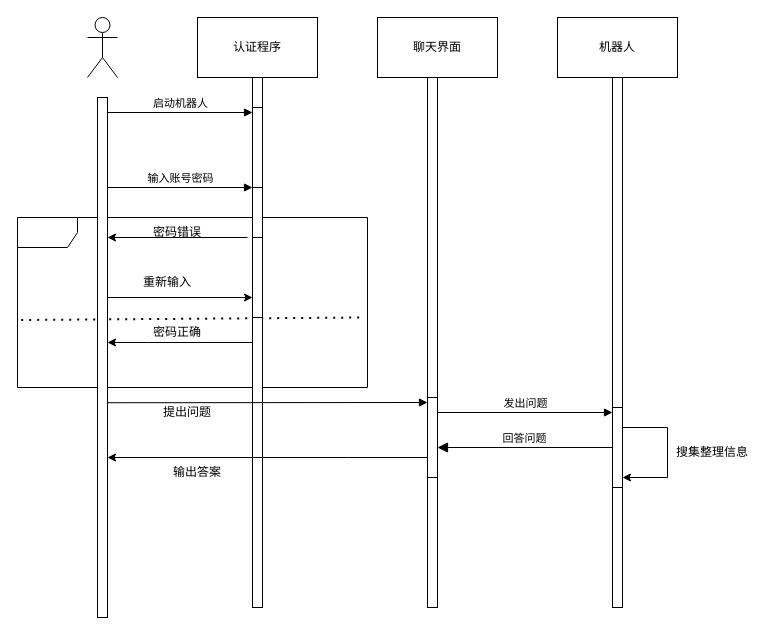
Image size: 775x635. Some labels were removed from this diagram. Each missing label, with the box of its shape:
学生: (86, 16, 118, 78)
选择: (16, 216, 368, 388)
